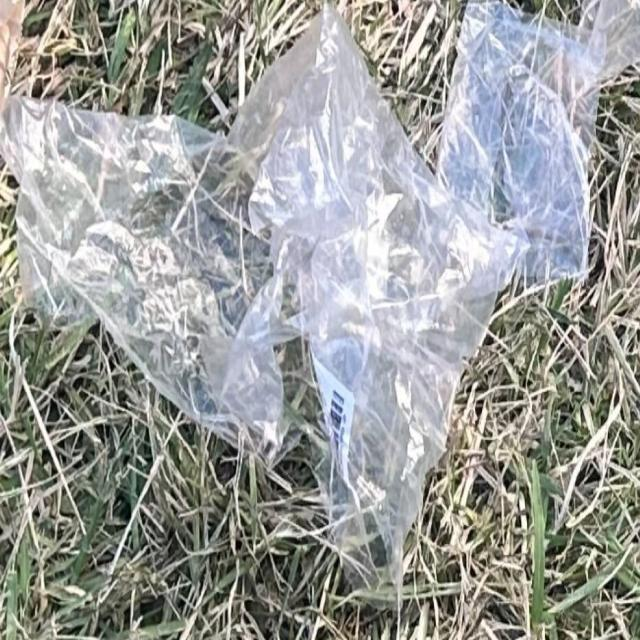plastic bag: (29, 0, 640, 554)
